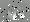person: (9, 6, 16, 20), (17, 11, 24, 18)
